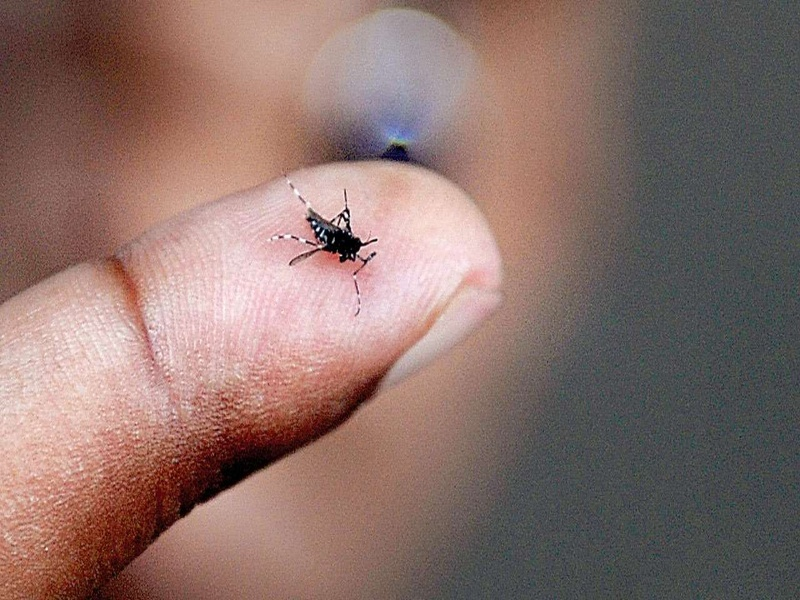dengue_mosquito: (266, 171, 379, 316)
